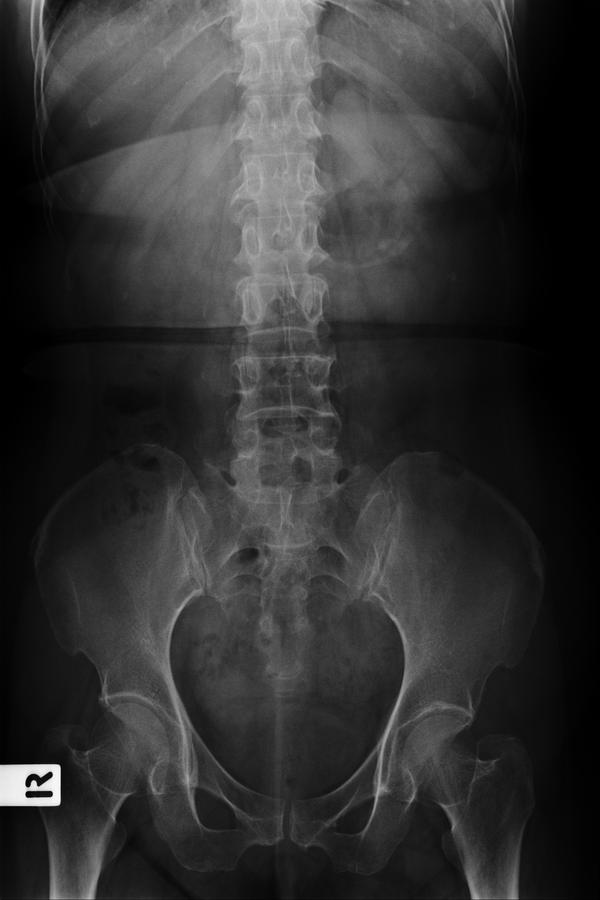not lumbar scoliosis: (228, 159, 345, 537)
